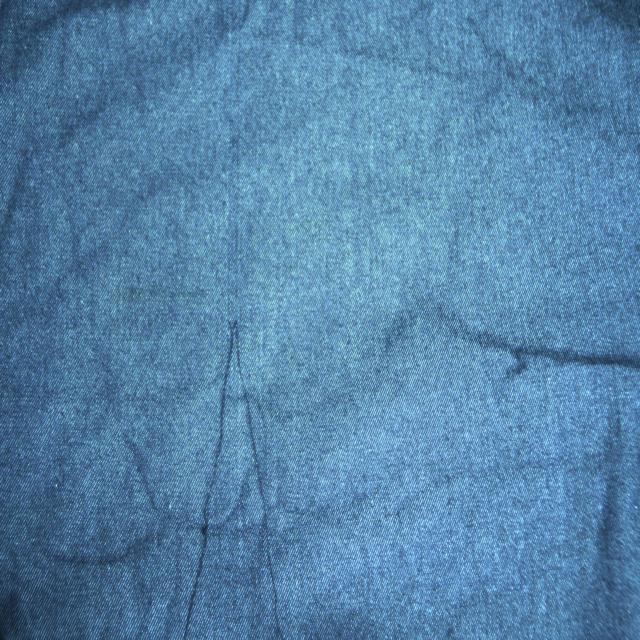defect: (178, 310, 289, 640)
